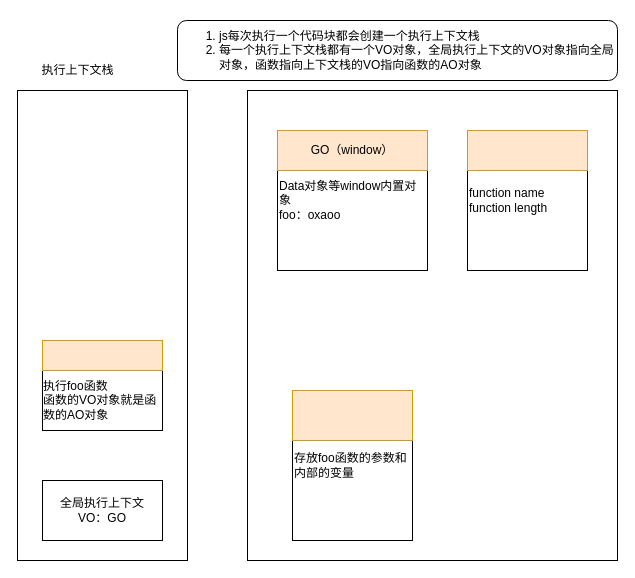
This 635x578 diagram has some shape labels left out. The centre of each missing label's shape, as x and y in pixels:
"foo的AO对象" belongs at (x=352, y=415).
"foo（axaoo）" belongs at (x=527, y=150).
"foo（VO：AO）" belongs at (x=102, y=355).
